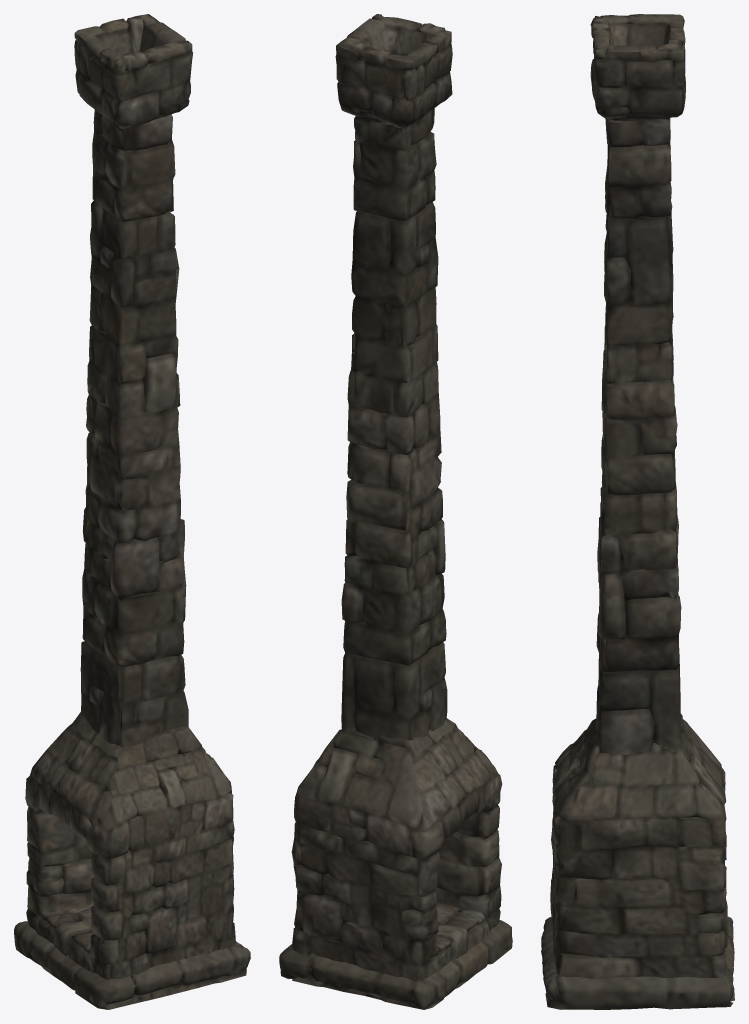
The model's file is Chimney_02.fbx.
3 views of the same model, side by side, from view 1: azimuth 30°, elevation 25°; view 2: azimuth 150°, elevation 25°; view 3: azimuth 270°, elevation 25° (orthographic).
Parts seen in each view (by area): view 1: Chimney_02; view 2: Chimney_02; view 3: Chimney_02.
Boxes of the visible parts, x1,y1,x2,y2 form: Chimney_02: (14,14,250,1009); Chimney_02: (279,14,512,1009); Chimney_02: (541,14,734,1009).
Size of what is drawn, in the model's own units: 201 by 1147 by 214.
